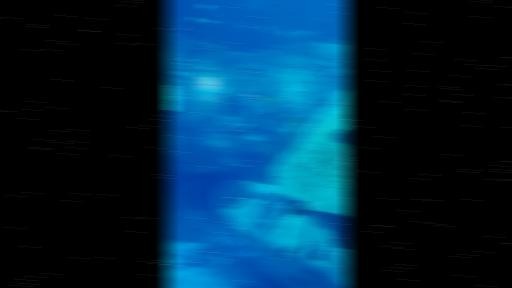Fish: (302, 210, 349, 248), (280, 23, 321, 39), (282, 115, 305, 139), (285, 198, 312, 217), (170, 69, 193, 85), (332, 130, 349, 148), (279, 244, 298, 258), (241, 0, 264, 11), (170, 69, 193, 78), (264, 144, 275, 157), (312, 249, 323, 260), (259, 24, 272, 33), (262, 97, 275, 106), (258, 118, 267, 126), (200, 4, 213, 9), (201, 19, 216, 23), (190, 17, 201, 22), (191, 39, 202, 44), (280, 31, 289, 36), (211, 46, 222, 50), (212, 11, 219, 17), (177, 26, 186, 30), (319, 16, 325, 21), (181, 57, 190, 60), (271, 83, 277, 87)
